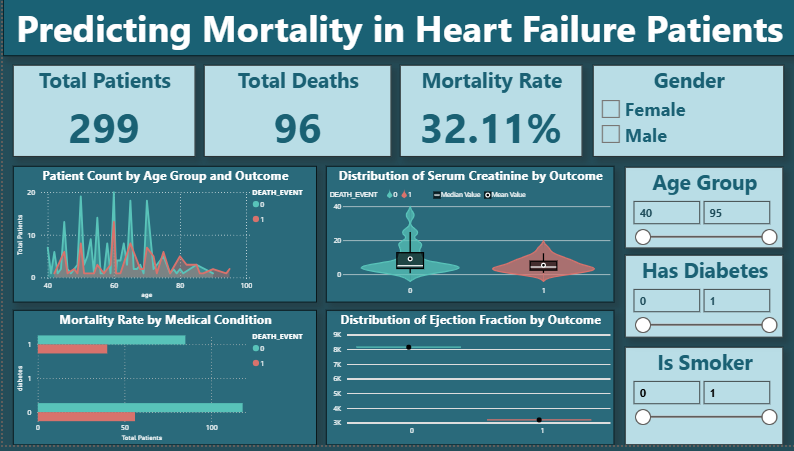

What the dashboard file says about the page in this screenshot:
{"tool":"powerbi","page":{"name":"Page 1","canvas":[1280,720],"ordinal":0},"visuals":[{"type":"textbox","box":[0,0,1280,91.7],"z":0},{"type":"card","title":"Total Patients","fields":{"Values":["heart_failure_data.Total Patients"]},"box":[16,106,294,148],"z":1000},{"type":"card","title":"Total Deaths","fields":{"Values":["heart_failure_data.Total Deaths"]},"box":[324,106,302,148],"z":2000},{"type":"card","title":"Mortality Rate","fields":{"Values":["heart_failure_data.Mortality Rate"]},"box":[640,106,294,148],"z":3000},{"type":"slicer","title":"Age Group","fields":{"Values":["heart_failure_data.age"]},"box":[1003.8,270.4,255.4,131.5],"z":4000},{"type":"slicer","title":"Gender","fields":{"Values":["heart_failure_data.Gender"]},"box":[952,106,308,148],"z":5000},{"type":"slicer","title":"Is Smoker","fields":{"Values":["heart_failure_data.smoking"]},"box":[1003.8,561.7,255.4,158.3],"z":6000},{"type":"slicer","title":"Has Diabetes","fields":{"Values":["heart_failure_data.diabetes"]},"box":[1003.8,412.3,255.4,132.9],"z":7000},{"type":"areaChart","title":"Patient Count by Age Group and Outcome","fields":{"Category":["heart_failure_data.age"],"Y":["heart_failure_data.Total Patients"],"Series":["heart_failure_data.DEATH_EVENT"]},"box":[16.7,270,490,220],"z":8000},{"type":"clusteredBarChart","title":"Mortality Rate by Medical Condition","fields":{"Category":["heart_failure_data.diabetes"],"Y":["heart_failure_data.Total Patients"],"Series":["heart_failure_data.DEATH_EVENT"]},"box":[16.7,501.7,490,218.3],"z":9000},{"type":"BoxWhiskerChart1455240051538","title":"Distribution of Ejection Fraction by Outcome","fields":{"Groups":["heart_failure_data.DEATH_EVENT"],"Values":["Sum(heart_failure_data.ejection_fraction)"]},"box":[521.7,501.7,465,218.3],"z":10000},{"type":"violinPlot4D46EB9EB3A141D9BA2289793175D971","title":"Distribution of Serum Creatinine by Outcome","fields":{"category":["heart_failure_data.DEATH_EVENT"],"sampling":["heart_failure_data.serum_creatinine"],"measure":["Sum(heart_failure_data.serum_creatinine)"]},"box":[521.7,270,465,220],"z":11000}]}

Visuals, with their boxes in screenshot pixels (x1, y1, x2, y2), scaled from the page's 1280x720 canvas onto the 794x451 screenshot:
textbox: box(0, 0, 793, 57)
"Total Patients" card: box(10, 66, 192, 159)
"Total Deaths" card: box(201, 66, 388, 159)
"Mortality Rate" card: box(397, 66, 579, 159)
"Age Group" slicer: box(623, 169, 781, 252)
"Gender" slicer: box(591, 66, 782, 159)
"Is Smoker" slicer: box(623, 352, 781, 450)
"Has Diabetes" slicer: box(623, 258, 781, 342)
"Patient Count by Age Group and Outcome" areaChart: box(10, 169, 314, 307)
"Mortality Rate by Medical Condition" clusteredBarChart: box(10, 314, 314, 450)
"Distribution of Ejection Fraction by Outcome" BoxWhiskerChart1455240051538: box(324, 314, 612, 450)
"Distribution of Serum Creatinine by Outcome" violinPlot4D46EB9EB3A141D9BA2289793175D971: box(324, 169, 612, 307)
